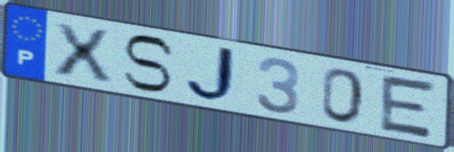0: (319, 67, 367, 124)
3: (254, 55, 302, 114)
E: (376, 72, 440, 141)
J: (184, 44, 244, 105)
S: (119, 33, 178, 94)
X: (50, 20, 116, 85)
